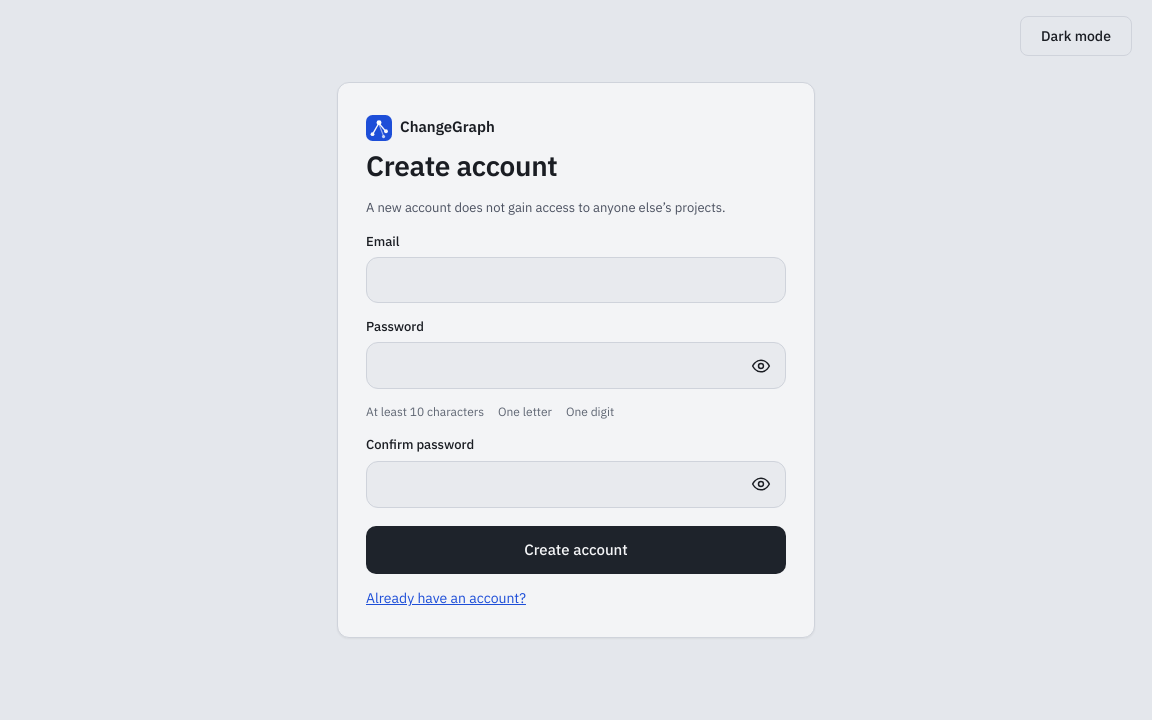
Test case: authentication screens › requires matching passwords on registration
Expected: the heading "Create account" is shown, [366,147,558,184]
Type "ada@example.com" into the field labelled "Email" at (576, 280), box [366,257,786,303]
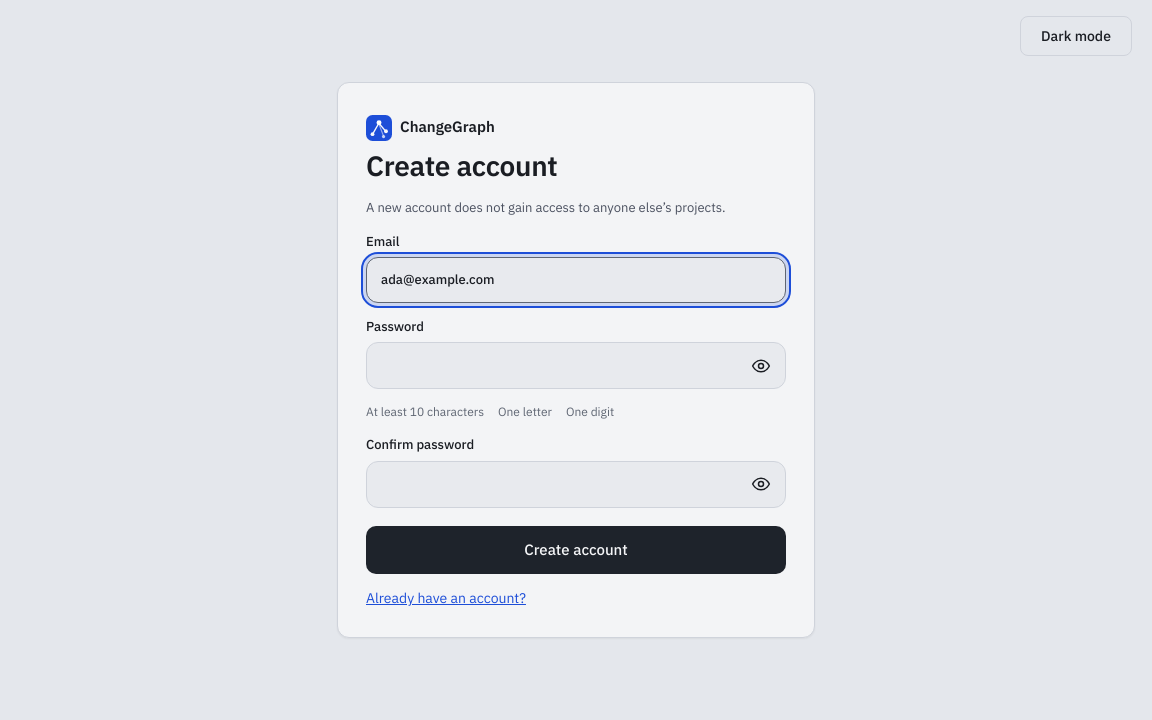
Type "correcthorse1" into the password field labelled "Password" at (553, 366), box [367,343,739,388]
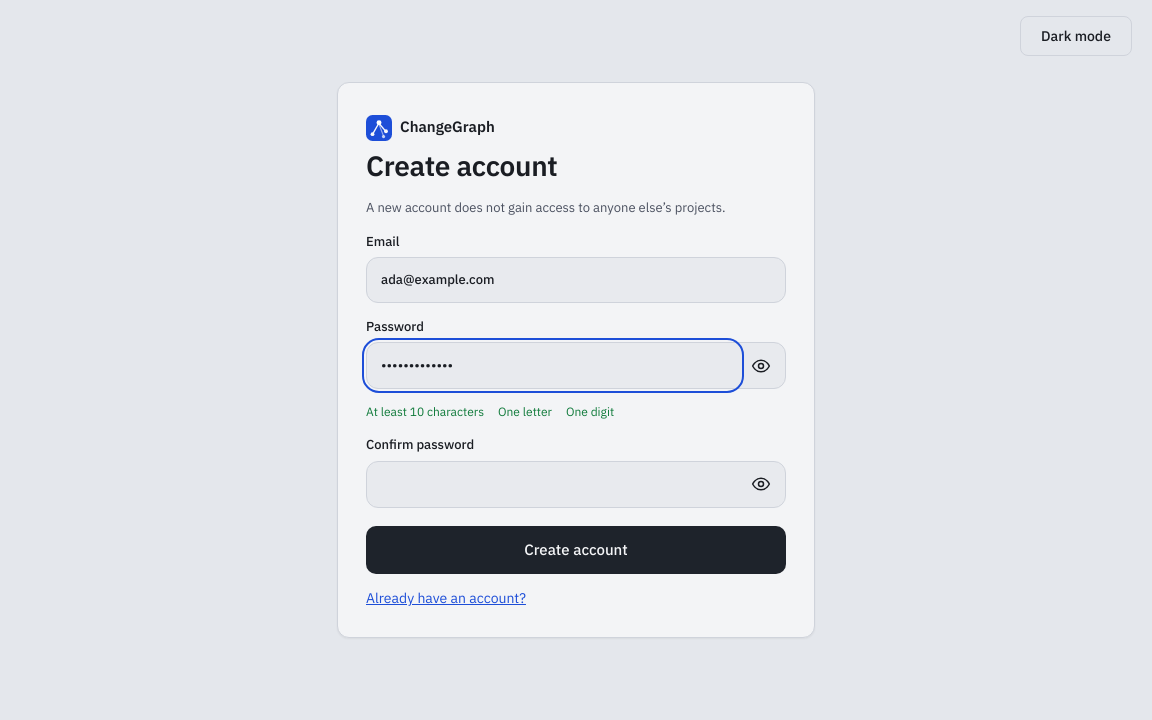
Type "correcthorse2" into the password field labelled "Confirm password" at (553, 484), box [367,462,739,507]
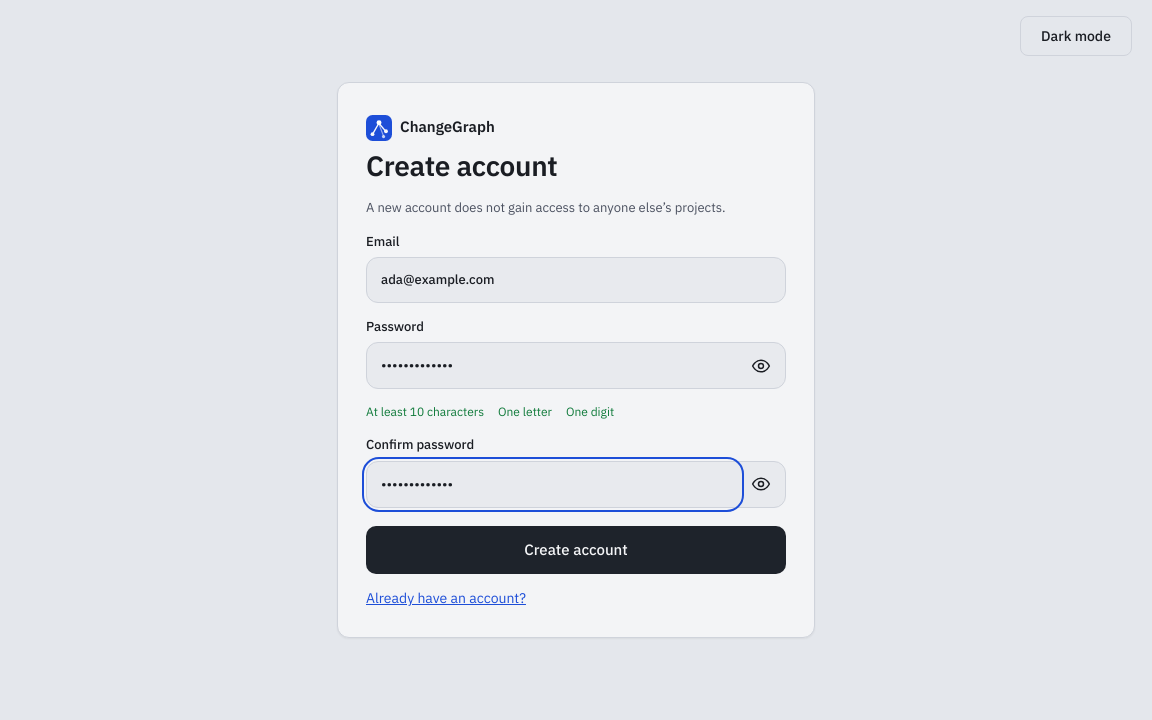
Click the button "Create account" at (576, 550), box [366,526,786,574]
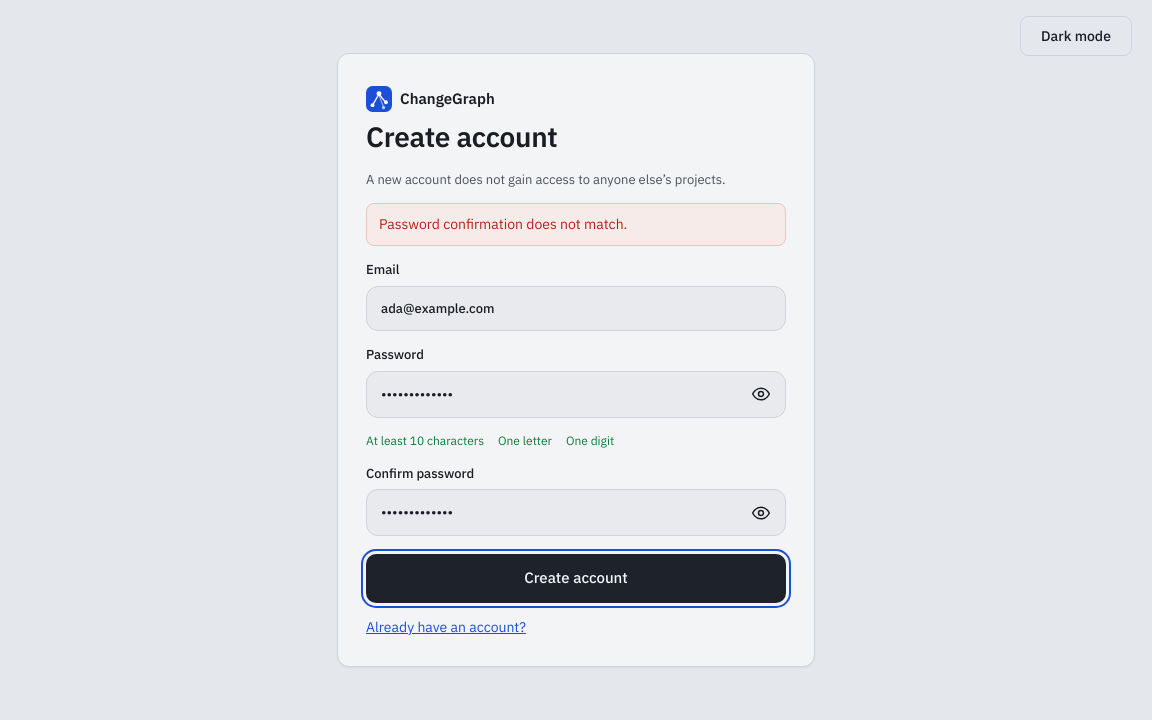
Now the message shows "does not match", box [379,215,627,233]
